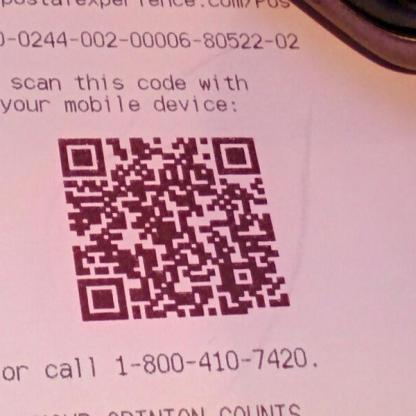qr: (51, 130, 297, 322)
